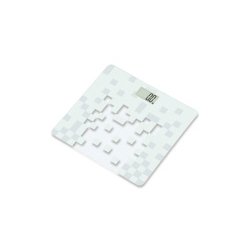LCD: (136, 86, 159, 105)
